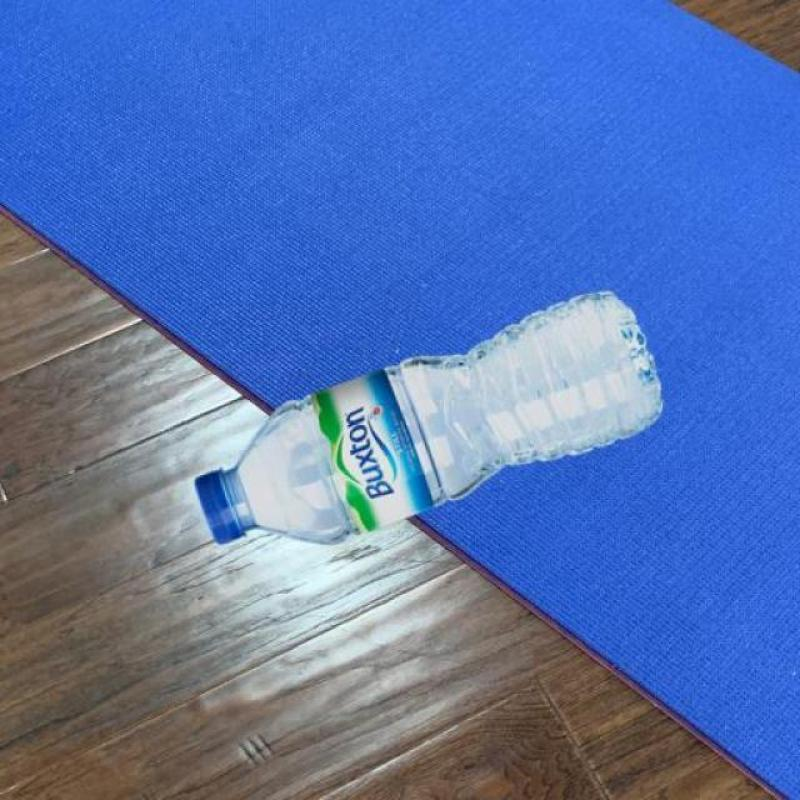botella: (195, 292, 663, 544)
